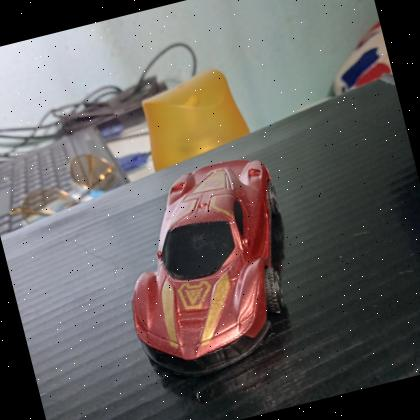Car: (94, 144, 321, 395)
